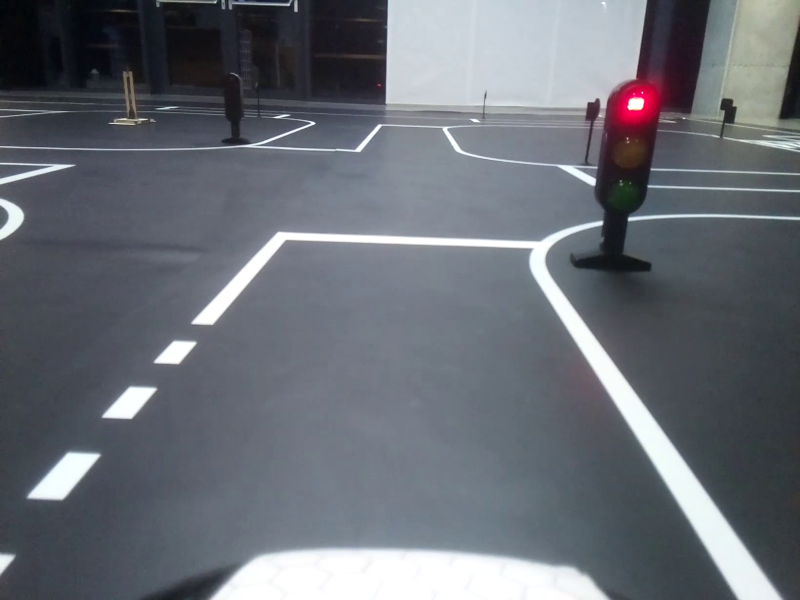traffic_red: (602, 84, 651, 217)
